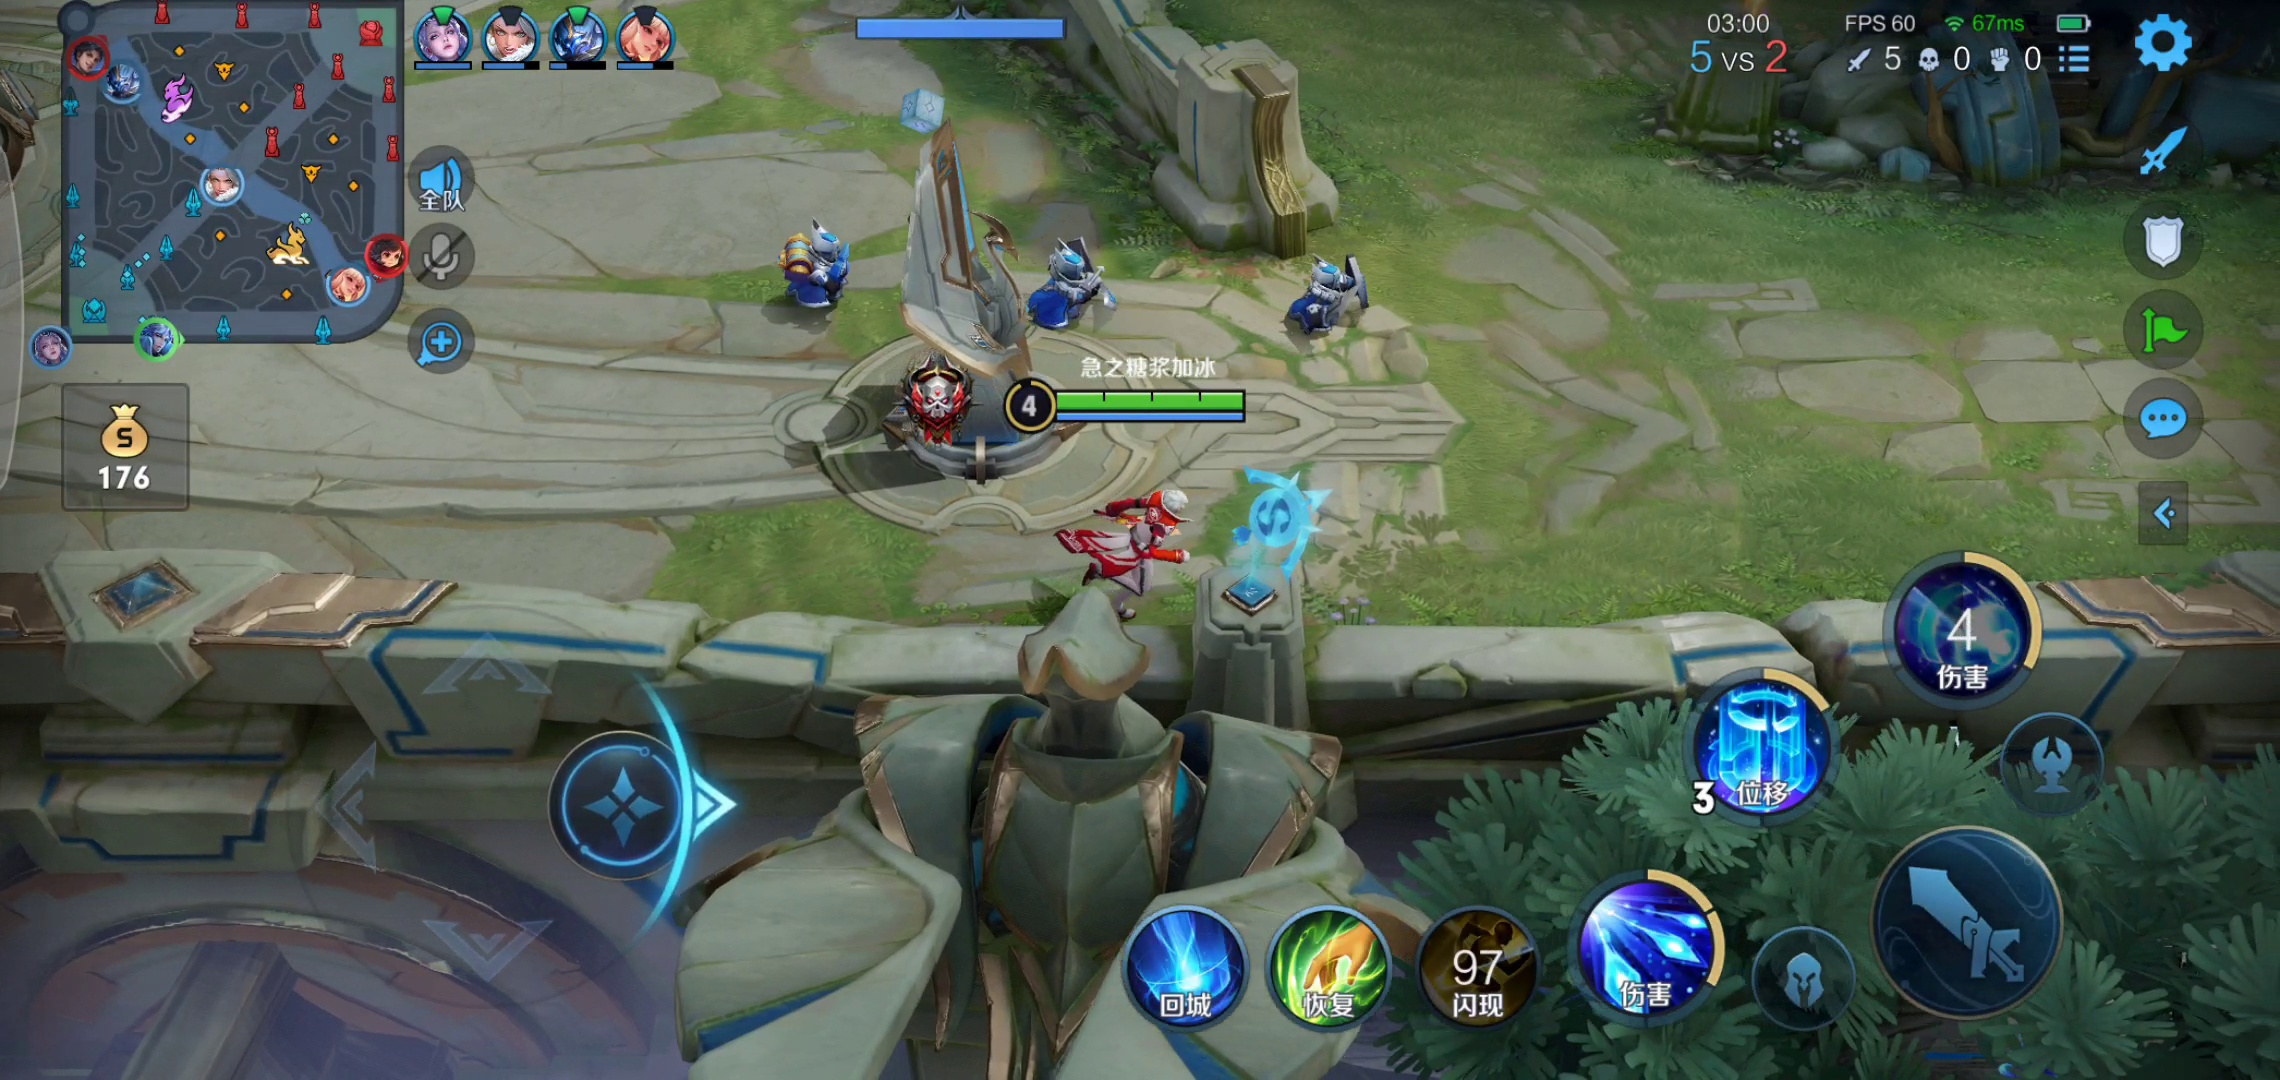hero: (1066, 477, 1200, 608)
soldier: (758, 217, 864, 313), (1281, 254, 1378, 343), (1024, 249, 1115, 331)
tower: (881, 128, 1063, 465)
